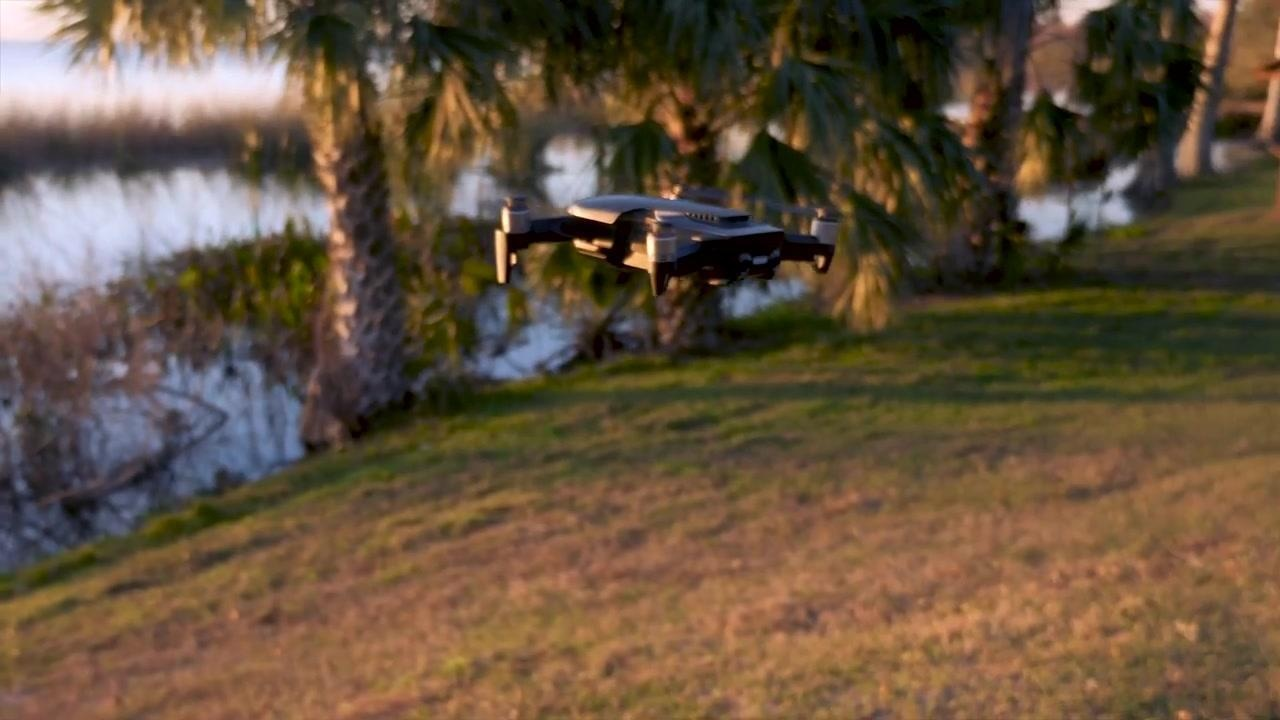UAV: (483, 187, 857, 298)
